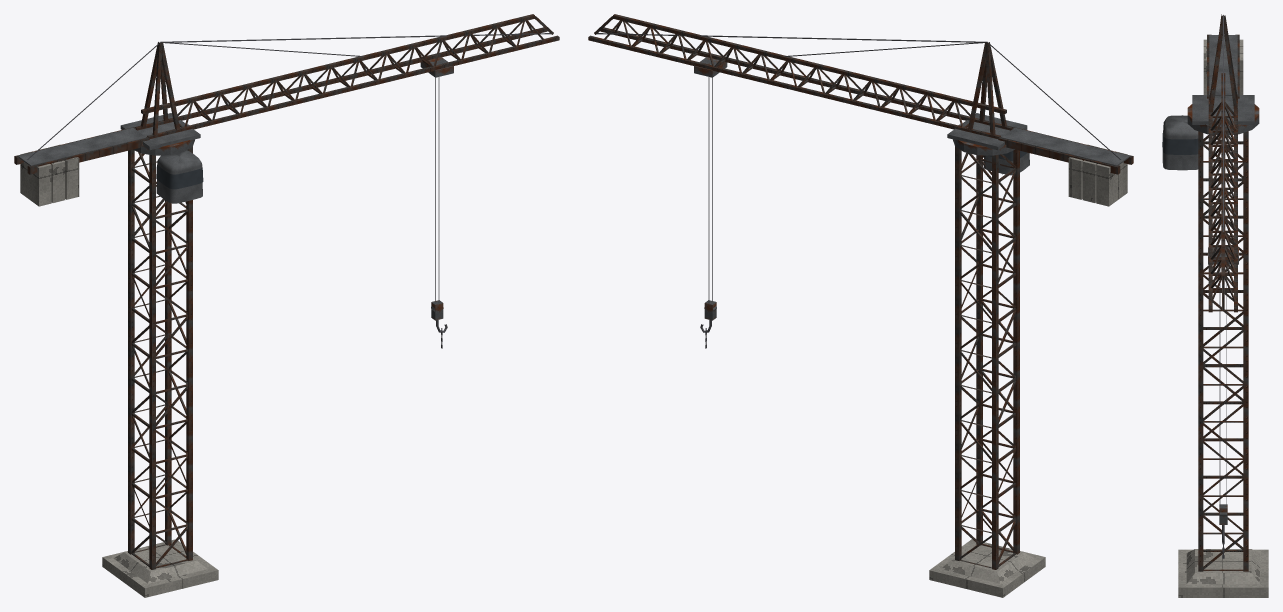
The model's file is crane.glb.
3 views of the same model, side by side, from view 1: azimuth 30°, elevation 25°; view 2: azimuth 150°, elevation 25°; view 3: azimuth 270°, elevation 25° (orthographic). The views are drawn at different scales.
Parts seen in each view (by area): view 1: detail, tower-col; view 2: detail, tower-col; view 3: detail, tower-col.
Boxes of the visible parts, left/top/right/bottom form: detail: left=14, top=14, right=559, bottom=568; tower-col: left=102, top=147, right=218, bottom=597; detail: left=588, top=14, right=1133, bottom=568; tower-col: left=929, top=147, right=1045, bottom=597; detail: left=1162, top=14, right=1259, bottom=570; tower-col: left=1178, top=131, right=1268, bottom=597.
Size of what is drawn, in the model's own units: 23.04 by 22.02 by 3.76.
Materials: 6 (6 with a texture image).
